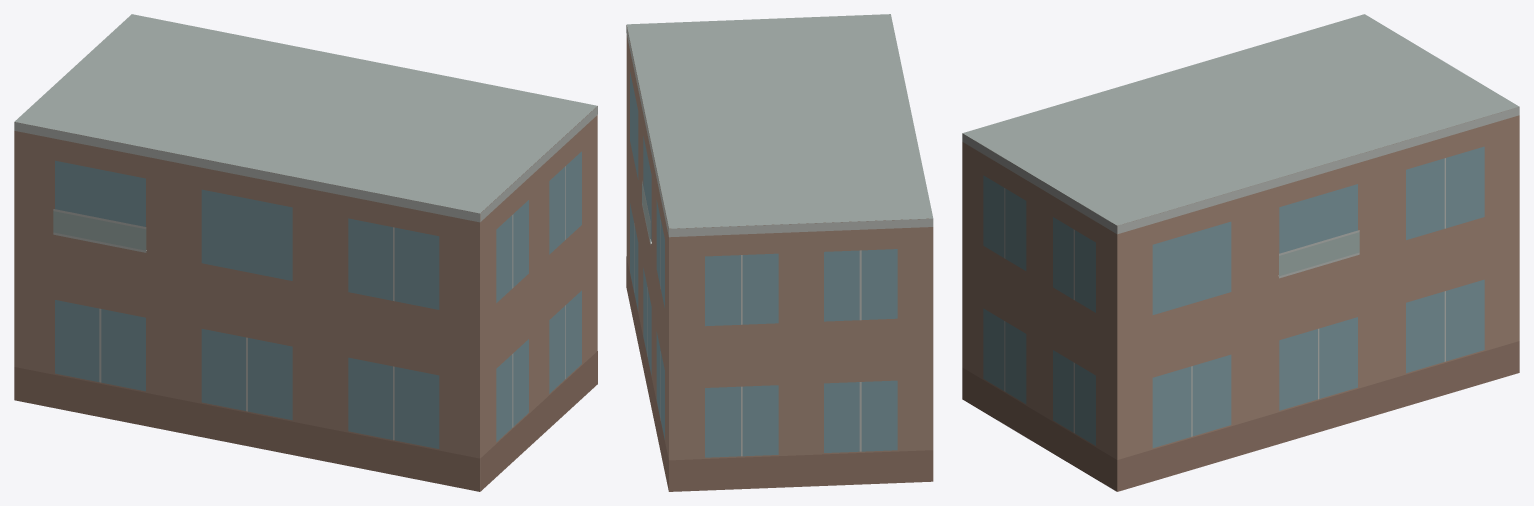
File: survey-upis-32619270.glb
3 views of the same model, side by side, from view 1: azimuth 30°, elevation 25°; view 2: azimuth 150°, elevation 25°; view 3: azimuth 270°, elevation 25° (orthographic). The views are drawn at different scales.
Visible parts, largest first — view 1: survey-upis-32619270.tmp; view 2: survey-upis-32619270.tmp; view 3: survey-upis-32619270.tmp.
Part boxes in pixels (bbox=[...]): survey-upis-32619270.tmp: bbox=[14, 14, 597, 491]; survey-upis-32619270.tmp: bbox=[626, 14, 933, 491]; survey-upis-32619270.tmp: bbox=[962, 14, 1519, 491].
Size of the model in its own units: 12.98 by 7.6 by 14.43.
